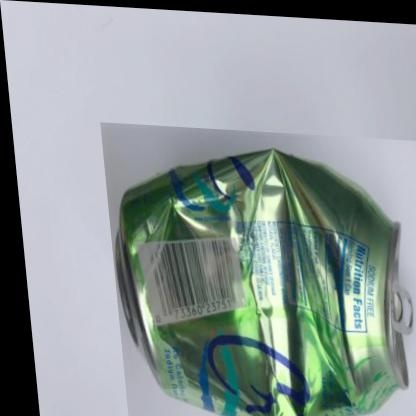trash: (115, 149, 410, 415)
